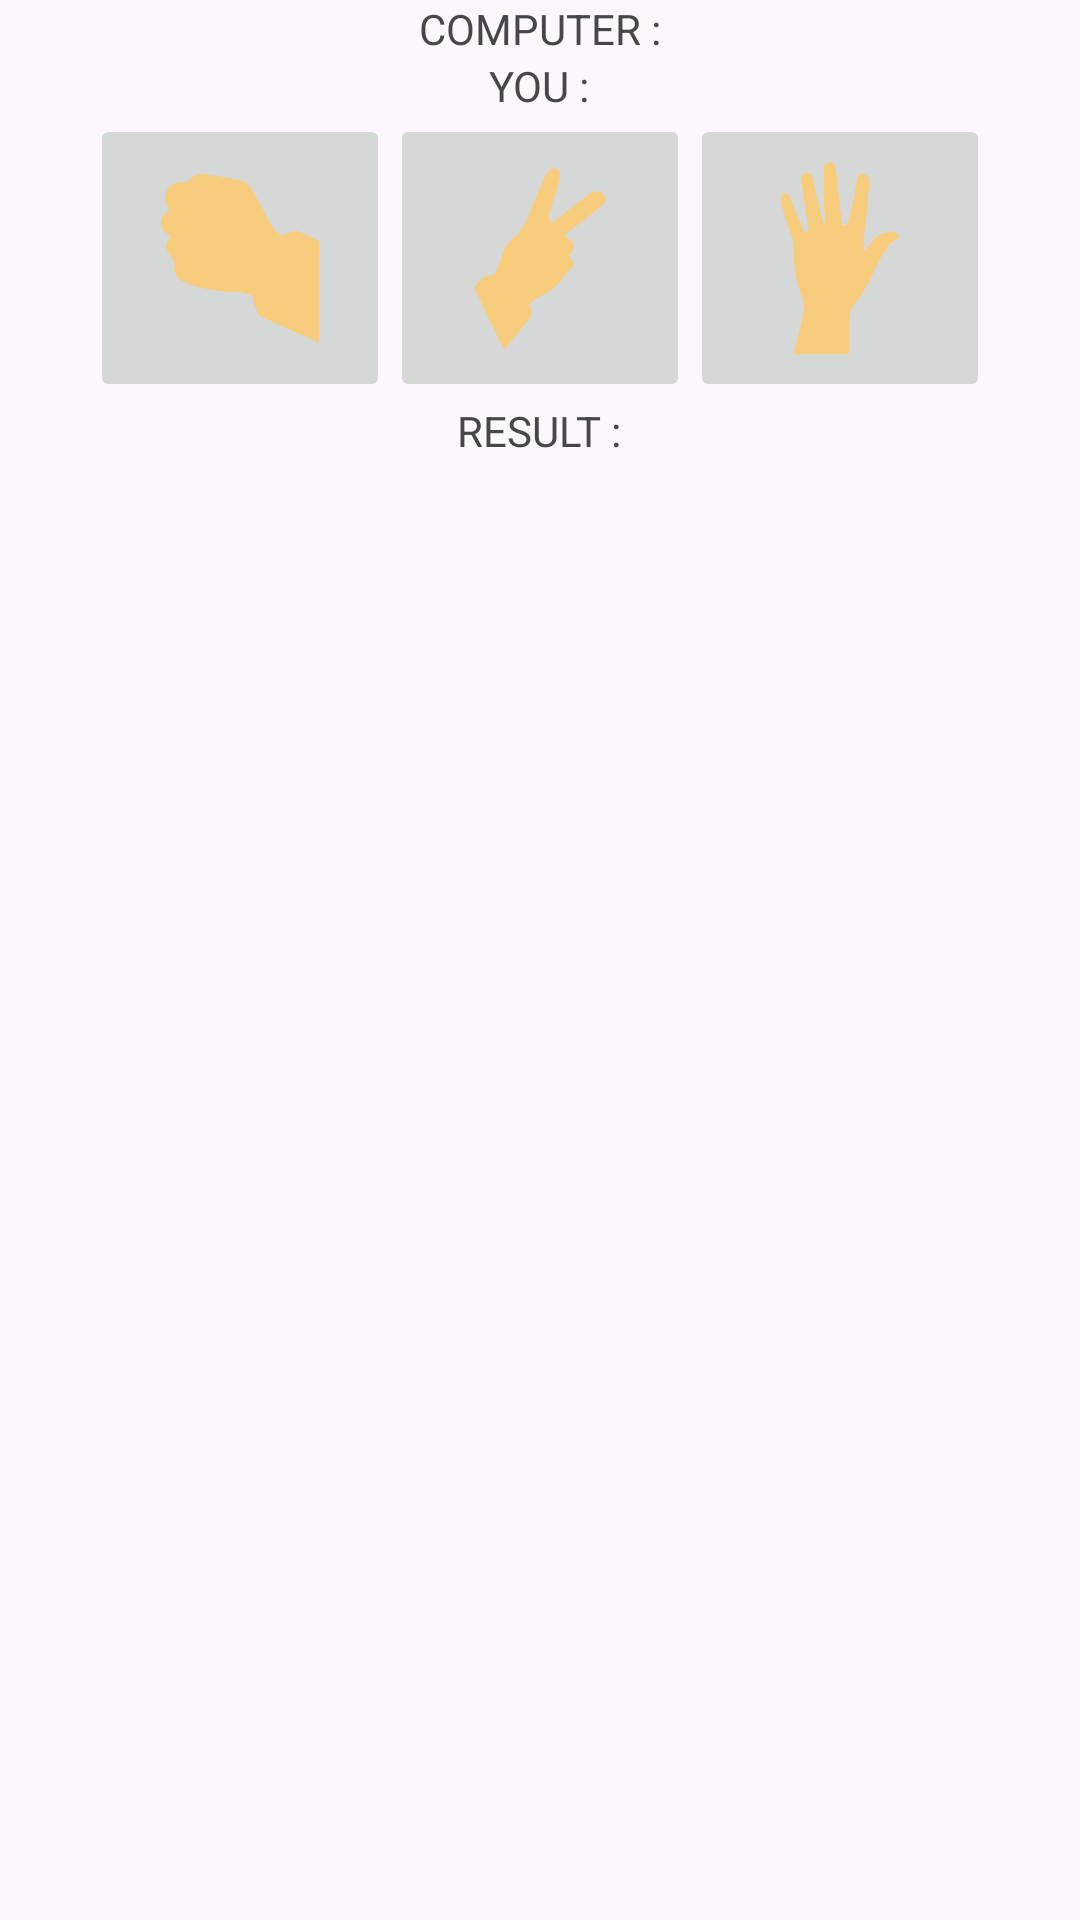

Icon click points for this 1080x1920 phone screenshot, format (x=x, y=y):
paper: (x=840, y=258)
rock: (x=240, y=258)
scissors: (x=540, y=258)
